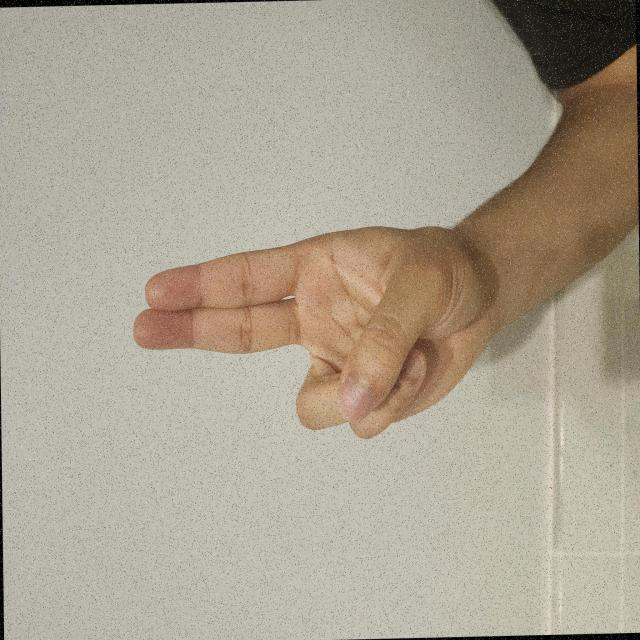U: (142, 166, 321, 640)
